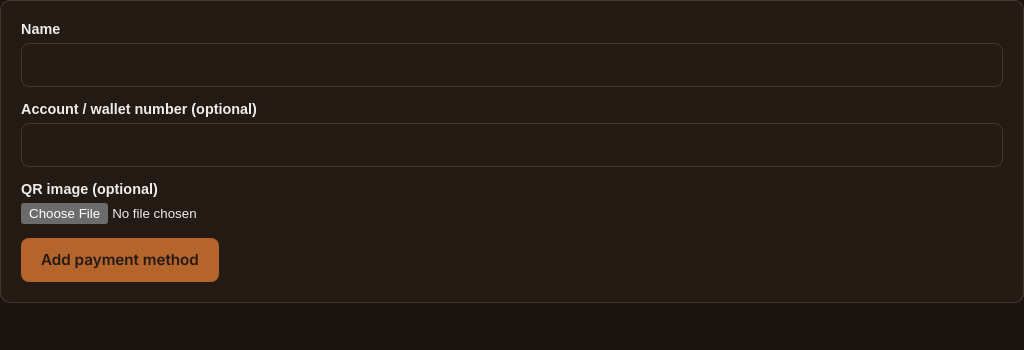
CreatePaymentMethodForm › shows an inline error when submission fails
Click the button "Add payment method" at [120, 260], box [21,238,219,282]
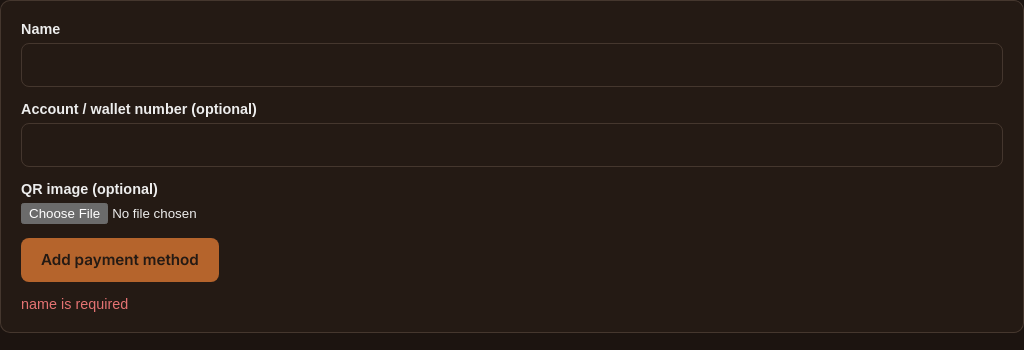
Expected: the message reads "name is required", [21,296,128,312]
